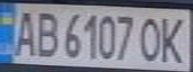0: (97, 10, 118, 61)
1: (78, 10, 100, 60)
6: (60, 9, 84, 60)
7: (115, 12, 139, 61)
A: (9, 7, 39, 58)
B: (33, 8, 60, 59)
K: (157, 12, 190, 64)
O: (136, 14, 166, 63)
